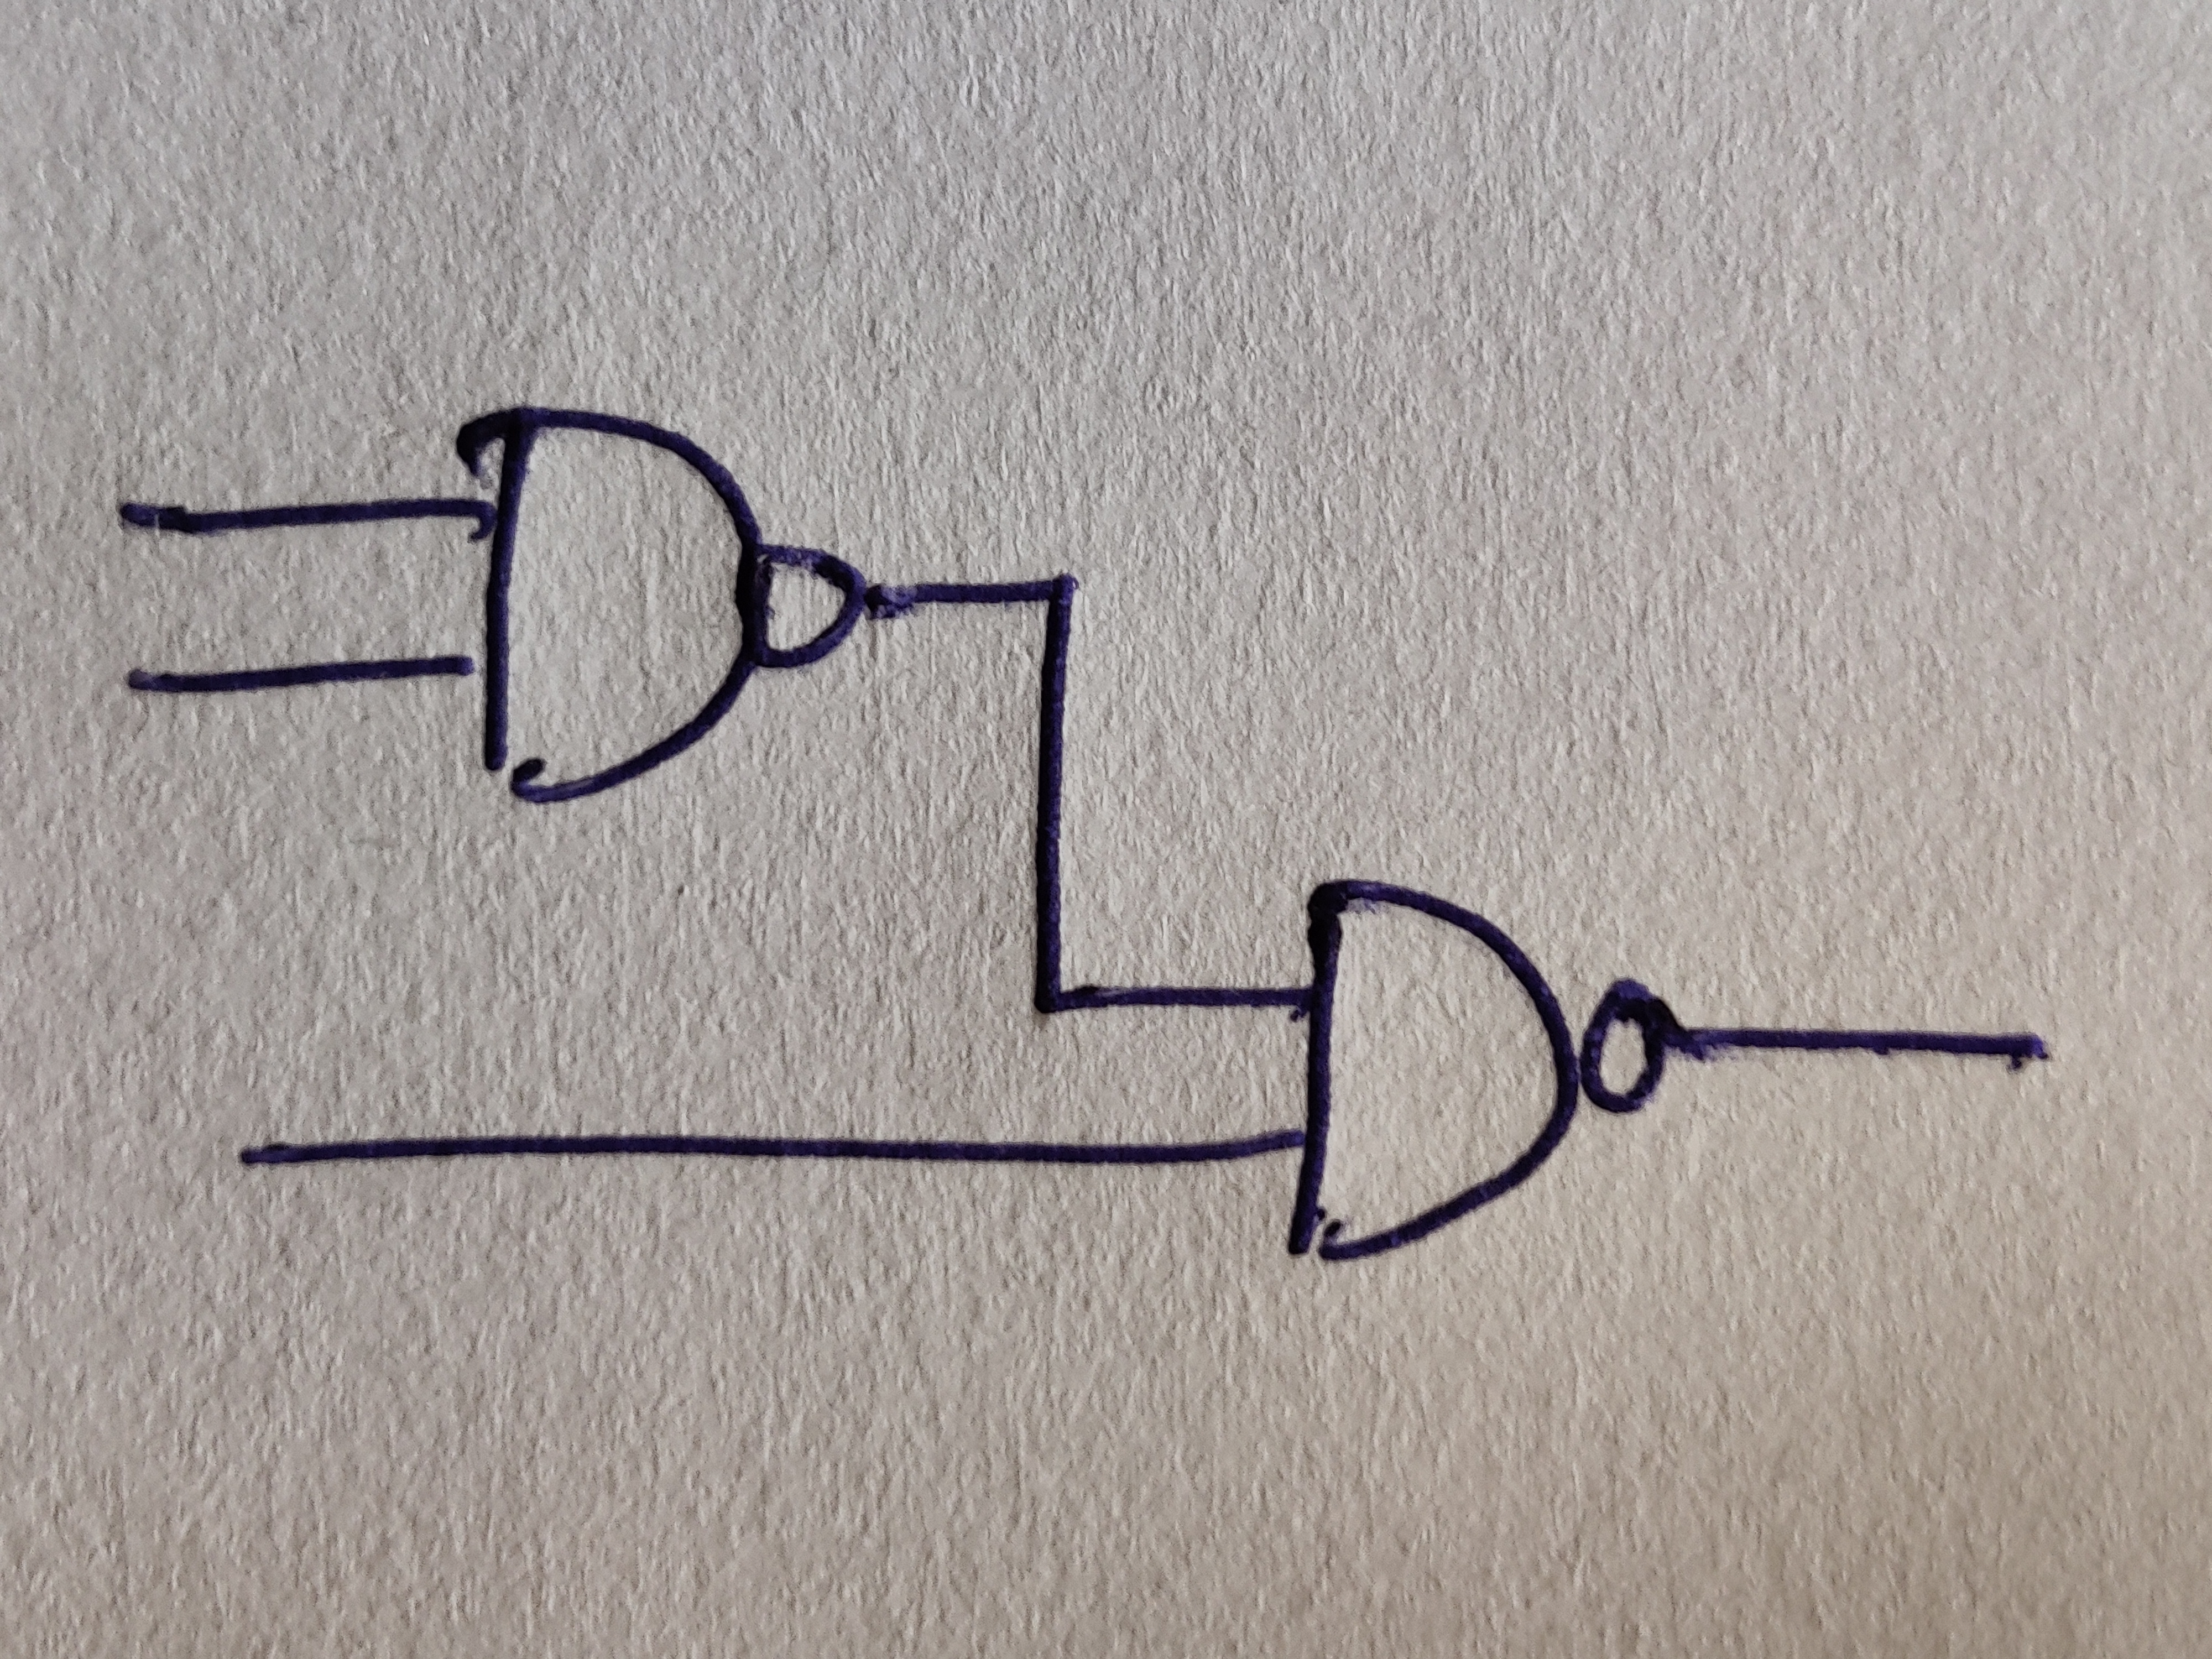and: (455, 408, 772, 807), (1287, 880, 1576, 1262)
not: (754, 545, 867, 666), (1580, 981, 1663, 1114)
